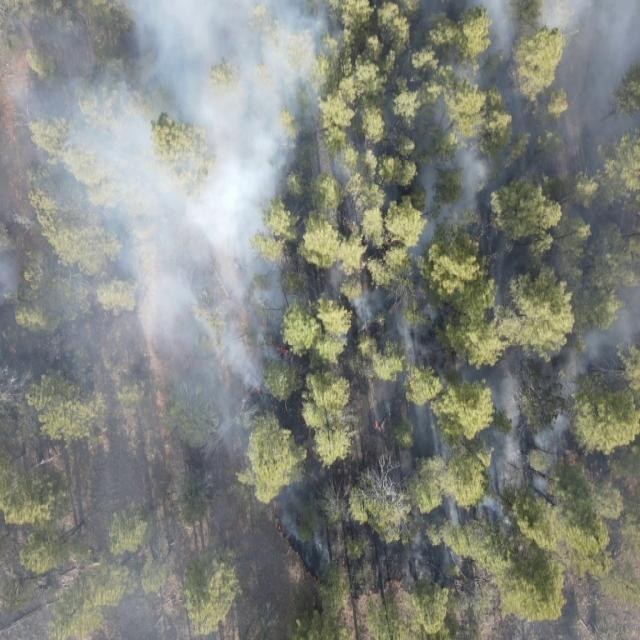fire: (276, 343, 291, 359), (372, 417, 385, 432), (251, 385, 263, 399)
smoke: (0, 0, 345, 640), (345, 0, 640, 395), (344, 394, 570, 560), (530, 587, 640, 640), (398, 560, 468, 596)
